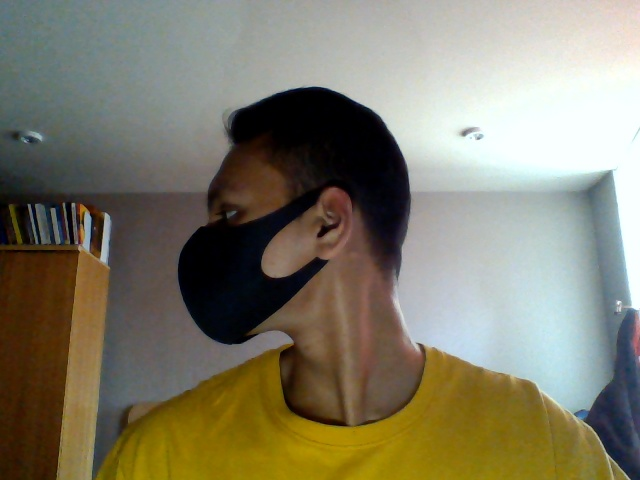mask: (176, 223, 314, 346)
